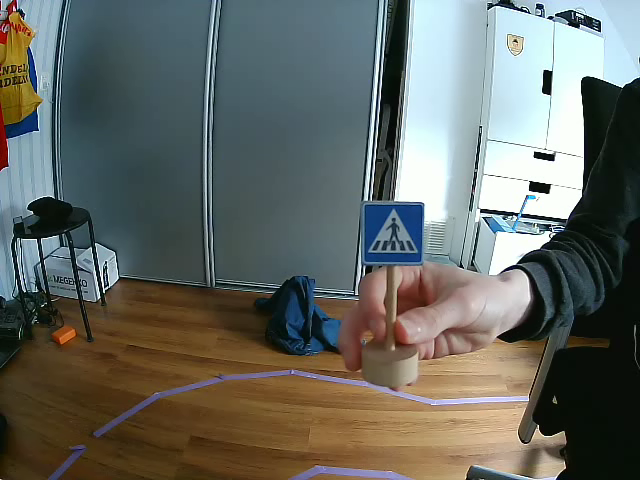zebrapad: (360, 199, 424, 267)
